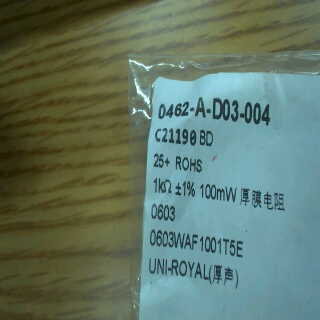1kR: (148, 174, 174, 198)
